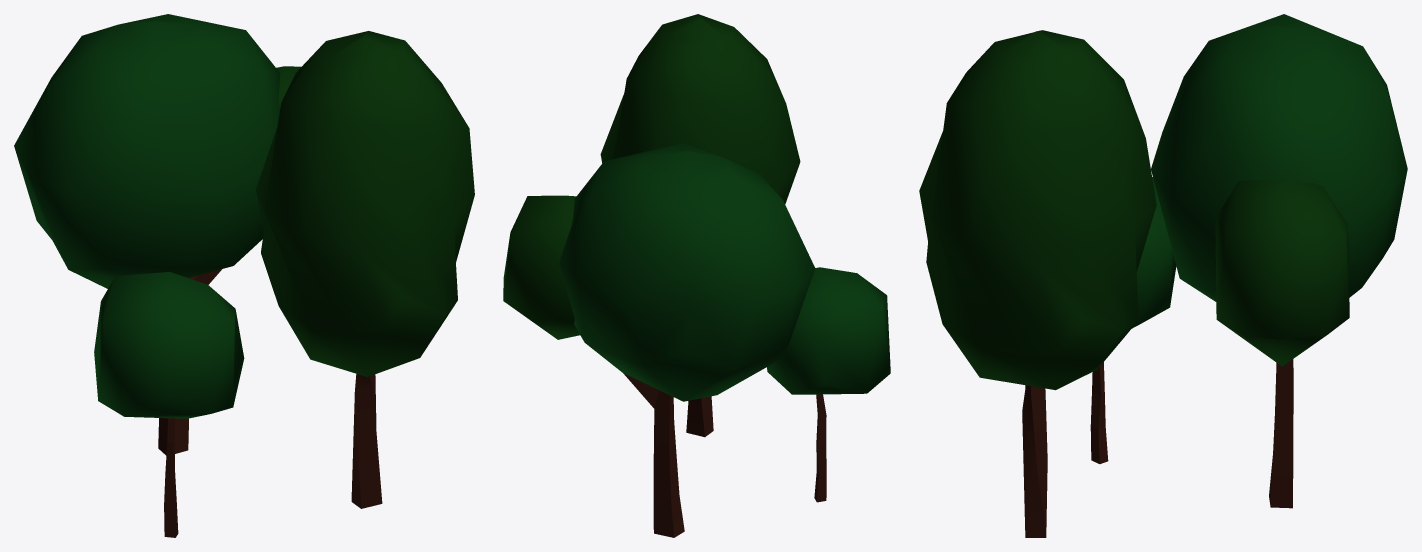
The model's file is trees.fbx.
3 views of the same model, side by side, from view 1: azimuth 30°, elevation 25°; view 2: azimuth 150°, elevation 25°; view 3: azimuth 270°, elevation 25° (orthographic). The views are drawn at different scales.
Visible parts, largest first — view 1: GeoSphere002, GeoSphere007, GeoSphere001, Box001, Cylinder001, Box002; view 2: GeoSphere007, GeoSphere002, GeoSphere001, GeoSphere004, Box002, Cylinder001, Box001; view 3: GeoSphere002, GeoSphere007, GeoSphere004, Box001, GeoSphere001, Box002, Cylinder001.
Part boxes in pixels (x1,y1,x2,y2): GeoSphere002: (256,31,474,376); GeoSphere007: (14,14,280,288); GeoSphere001: (94,272,244,418); Box001: (351,374,382,508); Cylinder001: (164,418,178,537); Box002: (158,269,221,455); GeoSphere007: (559,143,815,401); GeoSphere002: (600,14,800,204); GeoSphere001: (767,267,890,394); GeoSphere004: (503,195,579,339); Box002: (623,373,684,537); Cylinder001: (814,394,826,502); Box001: (686,396,713,437); GeoSphere002: (919,30,1156,390); GeoSphere007: (1151,14,1407,301); GeoSphere004: (1215,180,1349,366); Box001: (1022,385,1047,537); GeoSphere001: (1132,177,1176,328); Box002: (1269,283,1293,508); Cylinder001: (1090,362,1108,463).
Bounding box in the file's own units: 167 × 225 × 193.
